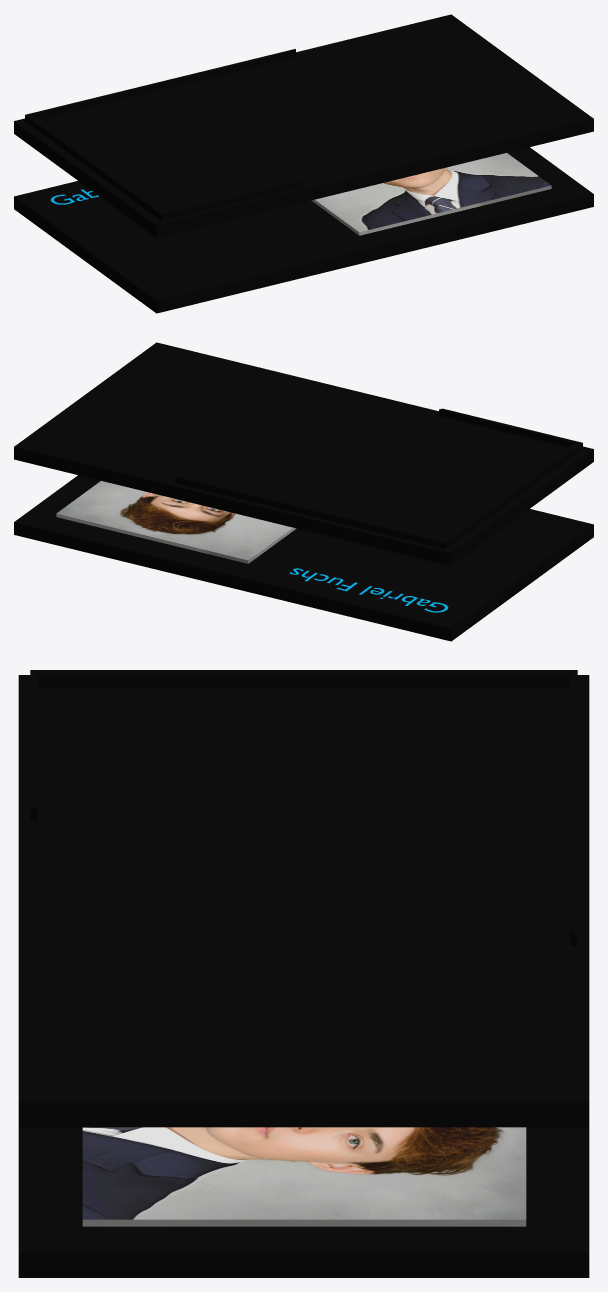
Rendered from website_v1.glb.
The picture shows the model from 3 angles, top to bottom: view 1: azimuth 30°, elevation 25°; view 2: azimuth 150°, elevation 25°; view 3: azimuth 270°, elevation 25°; orthographic projection. The views are drawn at different scales.
Visible parts, largest first — view 1: Cube.002, Cube, Cube.001; view 2: Cube.002, Cube, Cube.001, Text; view 3: Cube.002, Cube.001, Cube.
Part boxes in pixels (x1,y1,x2,y2): Cube.002: (14,14,593,237); Cube: (14,147,593,313); Cube.001: (311,153,551,235); Cube.002: (14,342,593,565); Cube: (14,475,593,641); Cube.001: (56,481,296,563); Text: (289,568,448,612); Cube.002: (18,670,589,1127); Cube.001: (82,1127,526,1226); Cube: (18,1127,589,1277).
Size of the model in its own units: 7.14 by 1.48 by 4.04.
3 materials, 1 textured.
